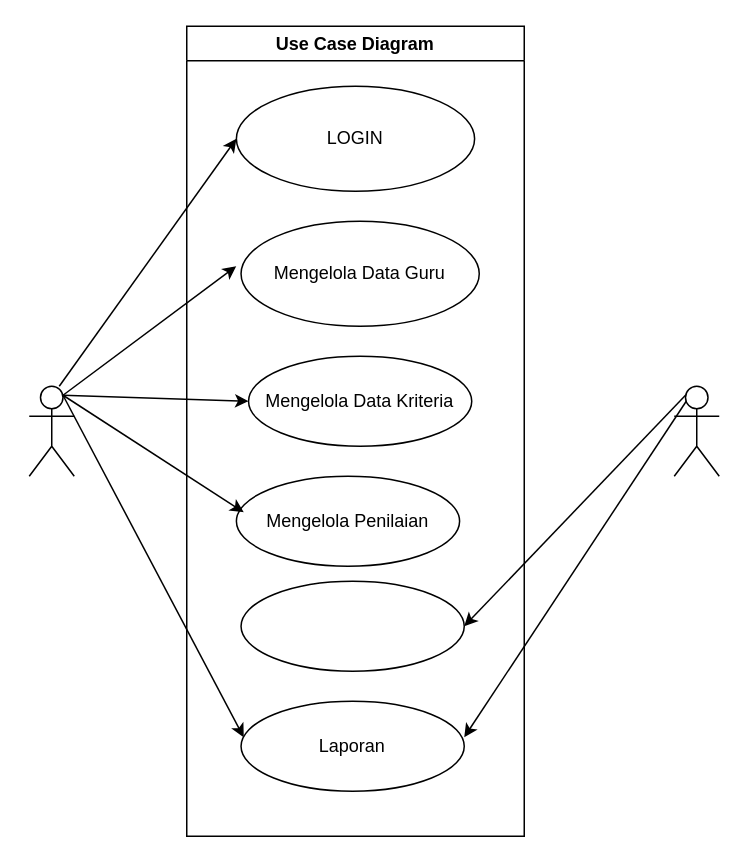
The diagram is 746 pixels wide and 863 high, and some of its shapes have lost their labels. The shapes that lost their labels are listed below. From the top down, each one's centre as x and y in pixels, then its label:
At [51,430]: "Admin".
At [696,430]: "Guru".
At [352,625]: "Melihat Hasil Penilaian".
